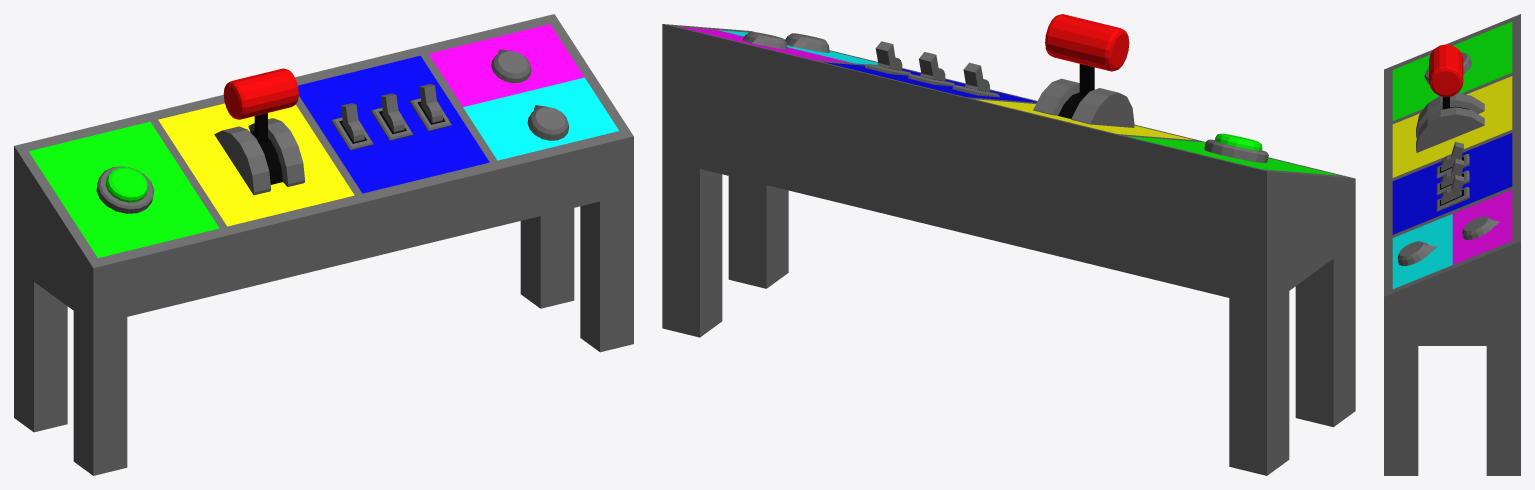
Rendered from dashboard.fbx.
3 views of the same model, side by side, from view 1: azimuth 30°, elevation 25°; view 2: azimuth 150°, elevation 25°; view 3: azimuth 270°, elevation 25° (orthographic). The views are drawn at different scales.
Visible parts, largest first — view 1: Dashboard, Slider, Startbtn, Knob, Knob.001; view 2: Dashboard, Slider; view 3: Dashboard, Slider, Knob, Knob.001, Switch.002, Switch, Switch.001.
Part boxes in pixels (x1,y1,x2,y2): Dashboard: (14, 14, 633, 475); Slider: (223, 68, 298, 144); Startbtn: (105, 167, 148, 202); Knob: (527, 105, 568, 140); Knob.001: (491, 49, 531, 83); Dashboard: (662, 24, 1355, 475); Slider: (1045, 14, 1129, 95); Dashboard: (1384, 14, 1520, 475); Slider: (1429, 44, 1463, 109); Knob: (1397, 241, 1436, 265); Knob.001: (1462, 216, 1499, 239); Switch.002: (1441, 175, 1463, 204); Switch: (1441, 141, 1463, 171); Switch.001: (1441, 158, 1463, 188).
Bounding box in the file's own units: 787 × 450 × 200.
